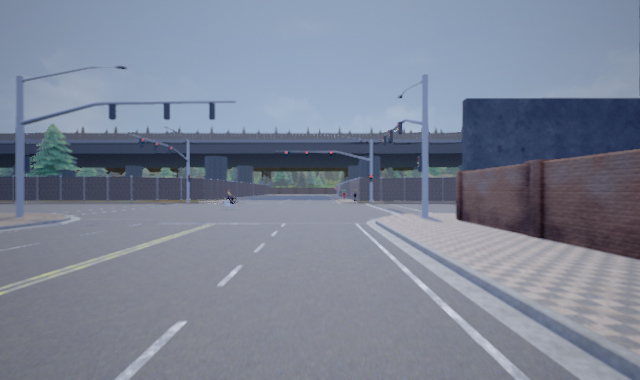bike: (219, 187, 240, 208)
